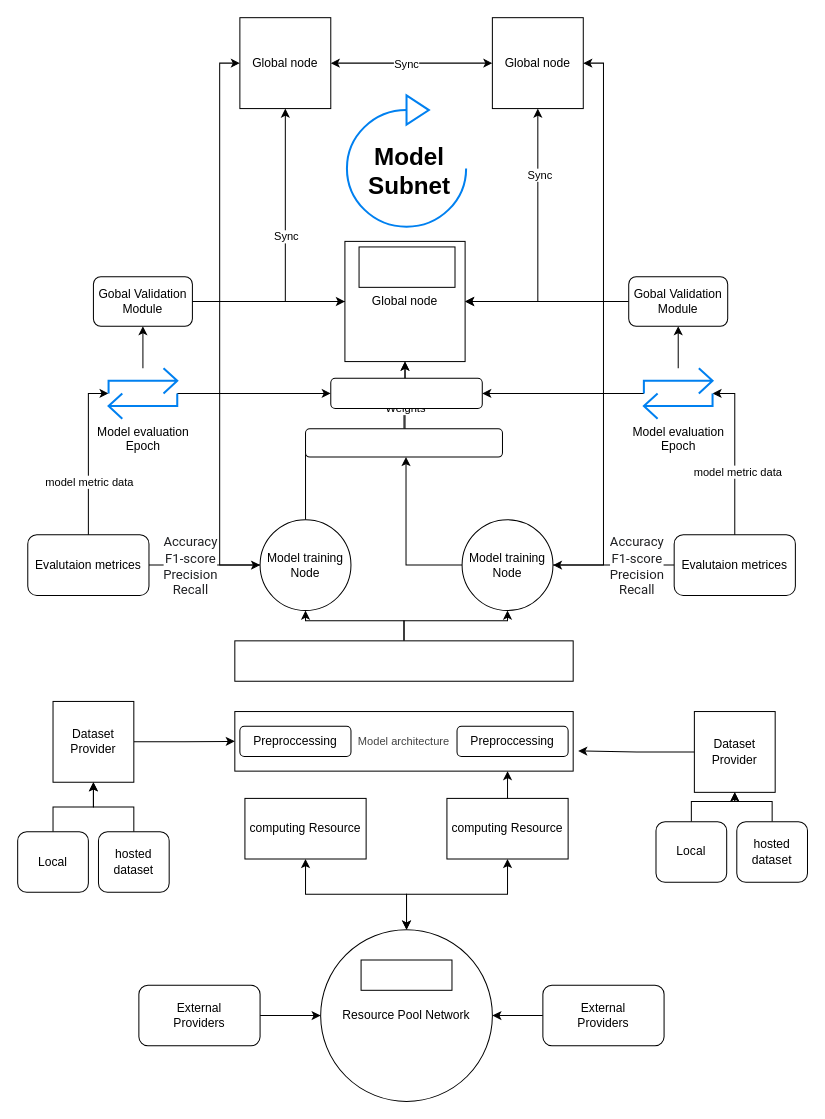
The diagram is 825 pixels wide and 1119 high, and some of its shapes have lost their labels. The centre of each missing label's shape, as x and y in pixels:
"Data Aggregator" belongs at (406,266).
"Gobal Receiver Module" belongs at (406,393).
"Hyperparameter Optimizer" belongs at (403,660).
"Resource Hosts" belongs at (406,974).
"Update Synchronization" belongs at (403,442).
